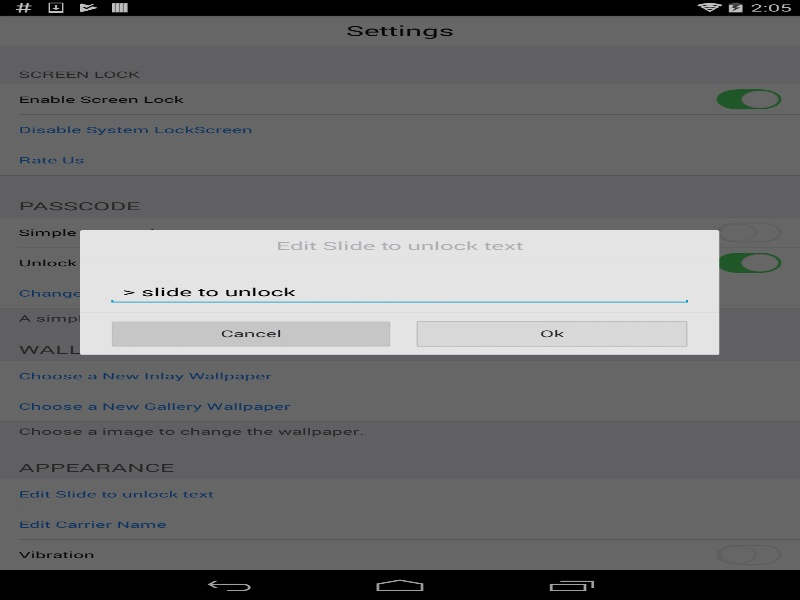Button: (106, 318, 395, 348), (411, 318, 692, 348)
Input: (106, 279, 692, 304)
